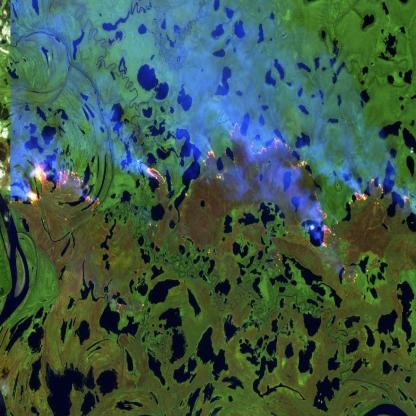fire: (0, 121, 416, 256)
